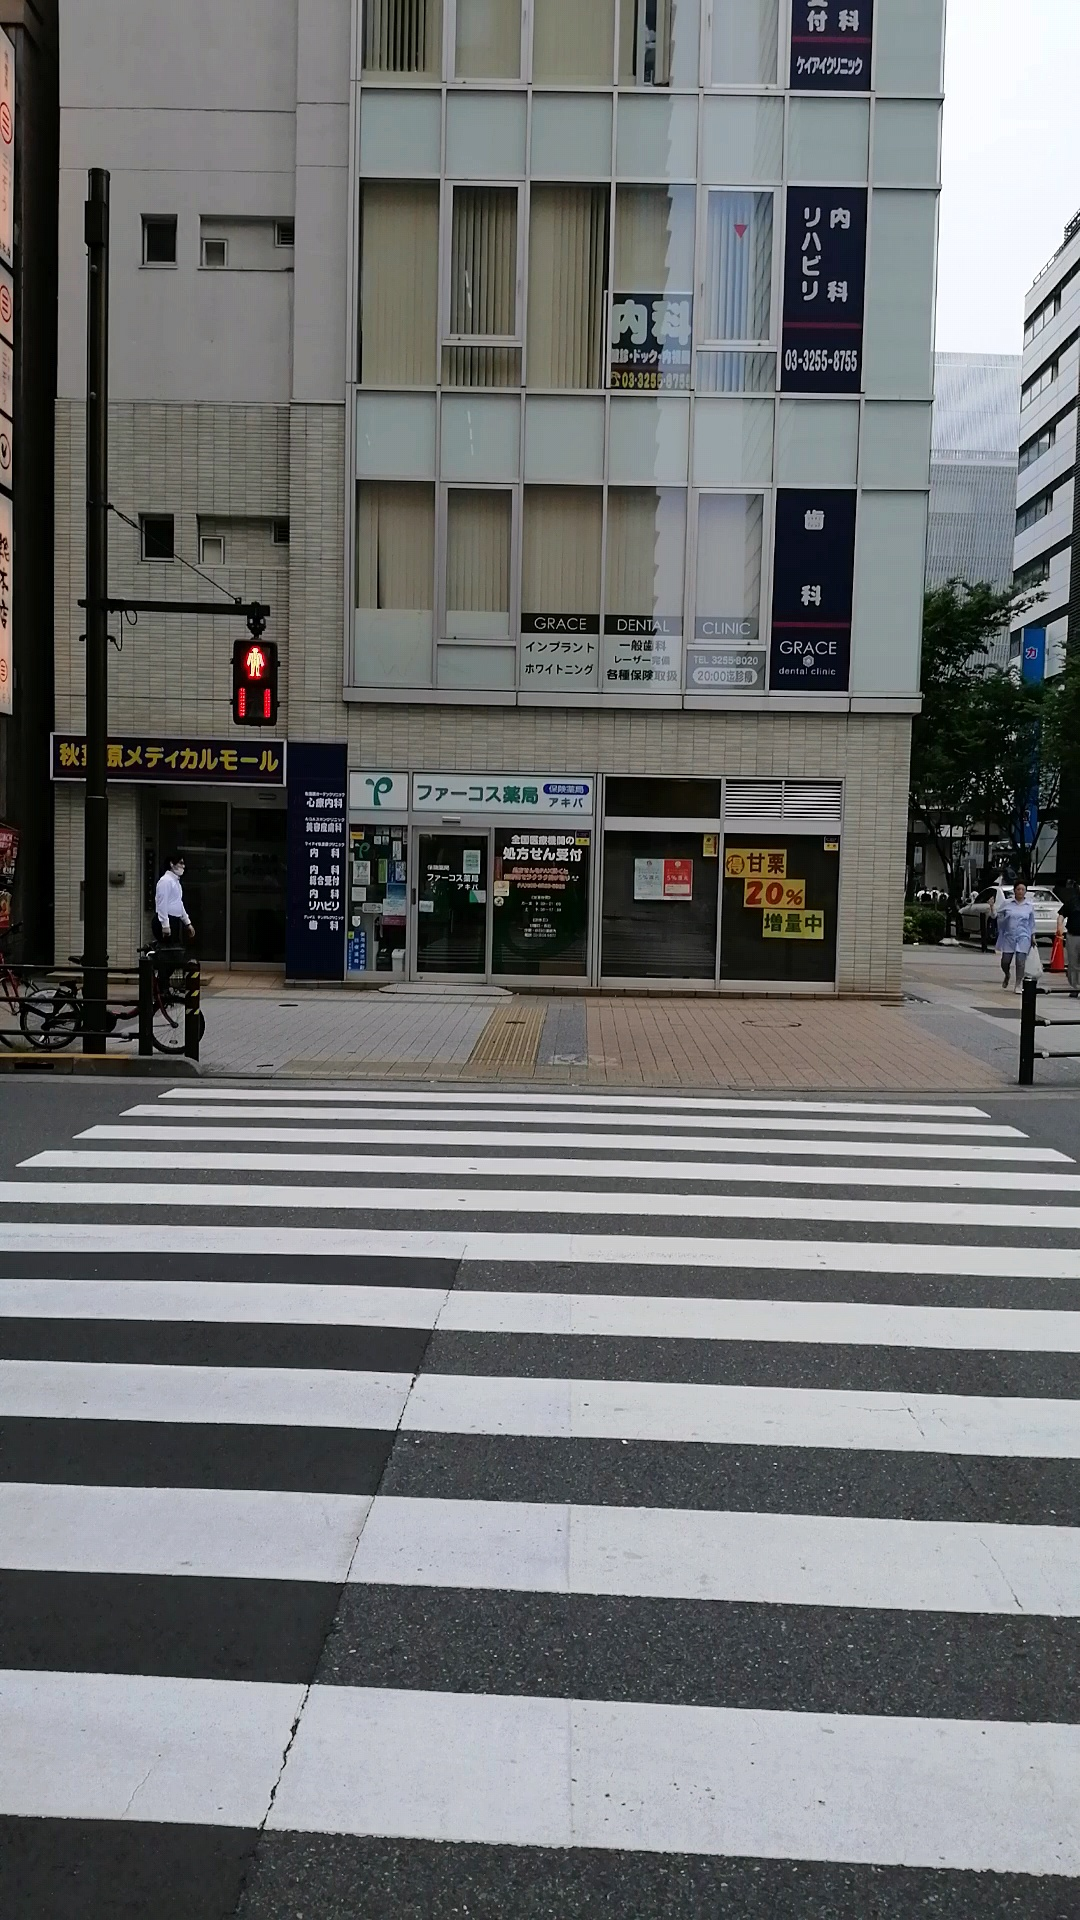red: (231, 640, 278, 727)
